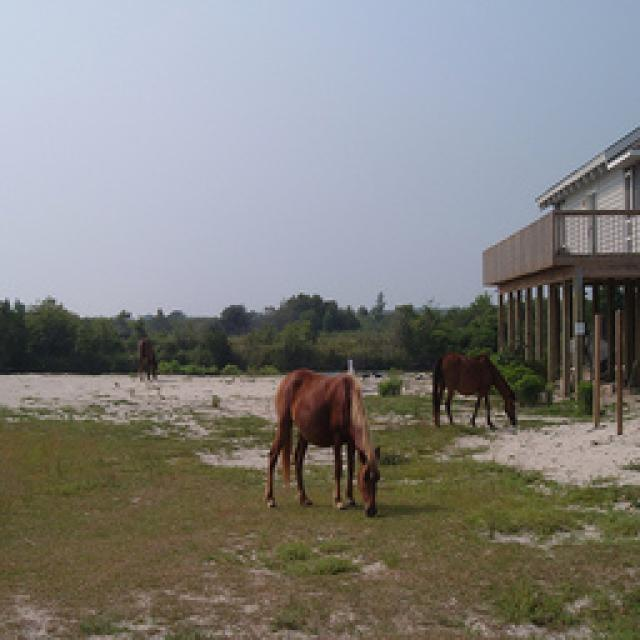not_pig: (262, 365, 380, 515), (430, 350, 518, 430), (135, 338, 157, 380)
